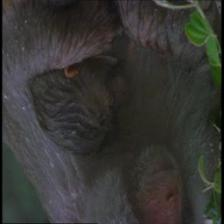monkey: (127, 140, 191, 223), (102, 55, 140, 133)
